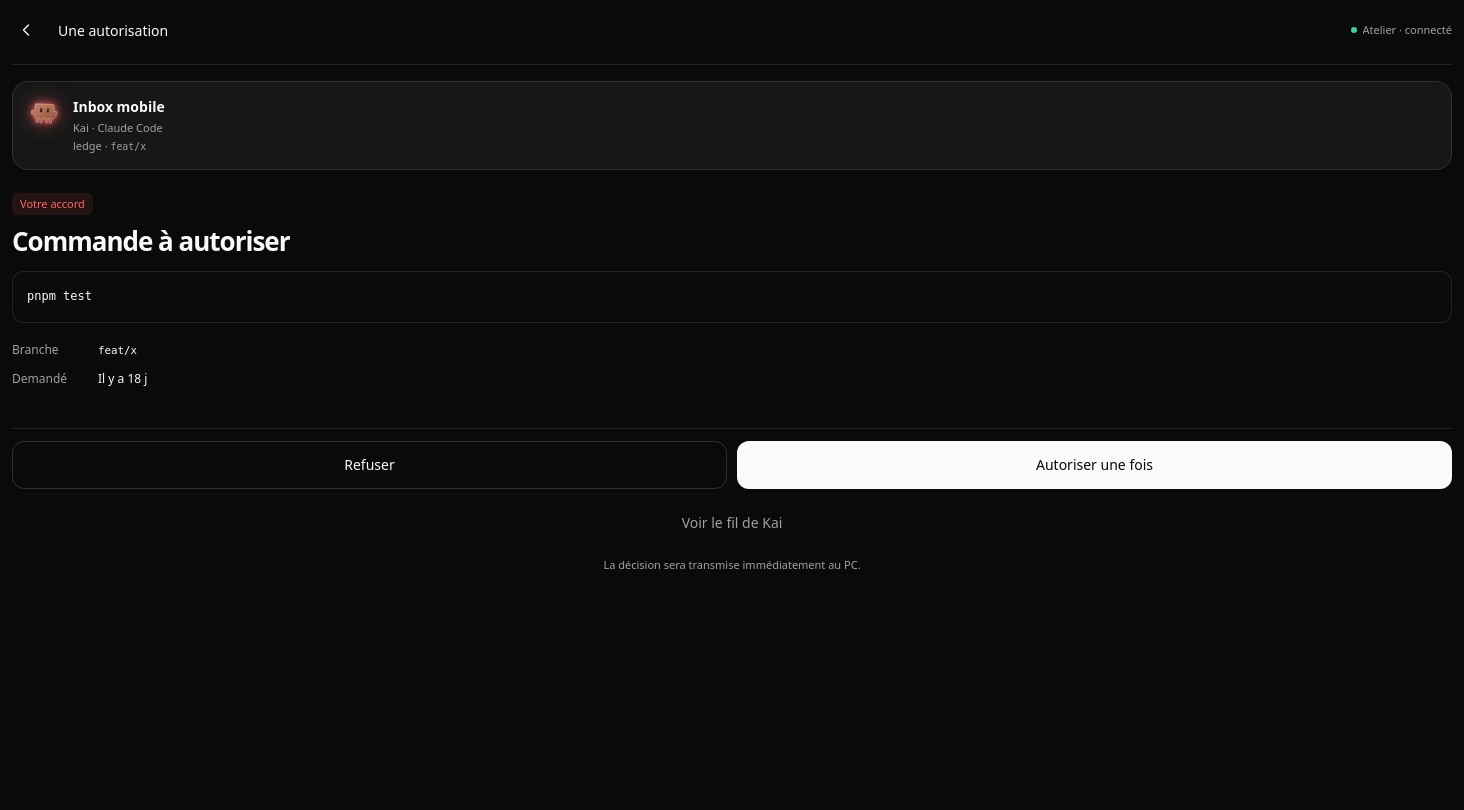
Test: the request detail › says a refusal was taken
The image size is (1464, 810).
Step 1. Click the button "Refuser" → [370, 465], box [12,441,727,489]
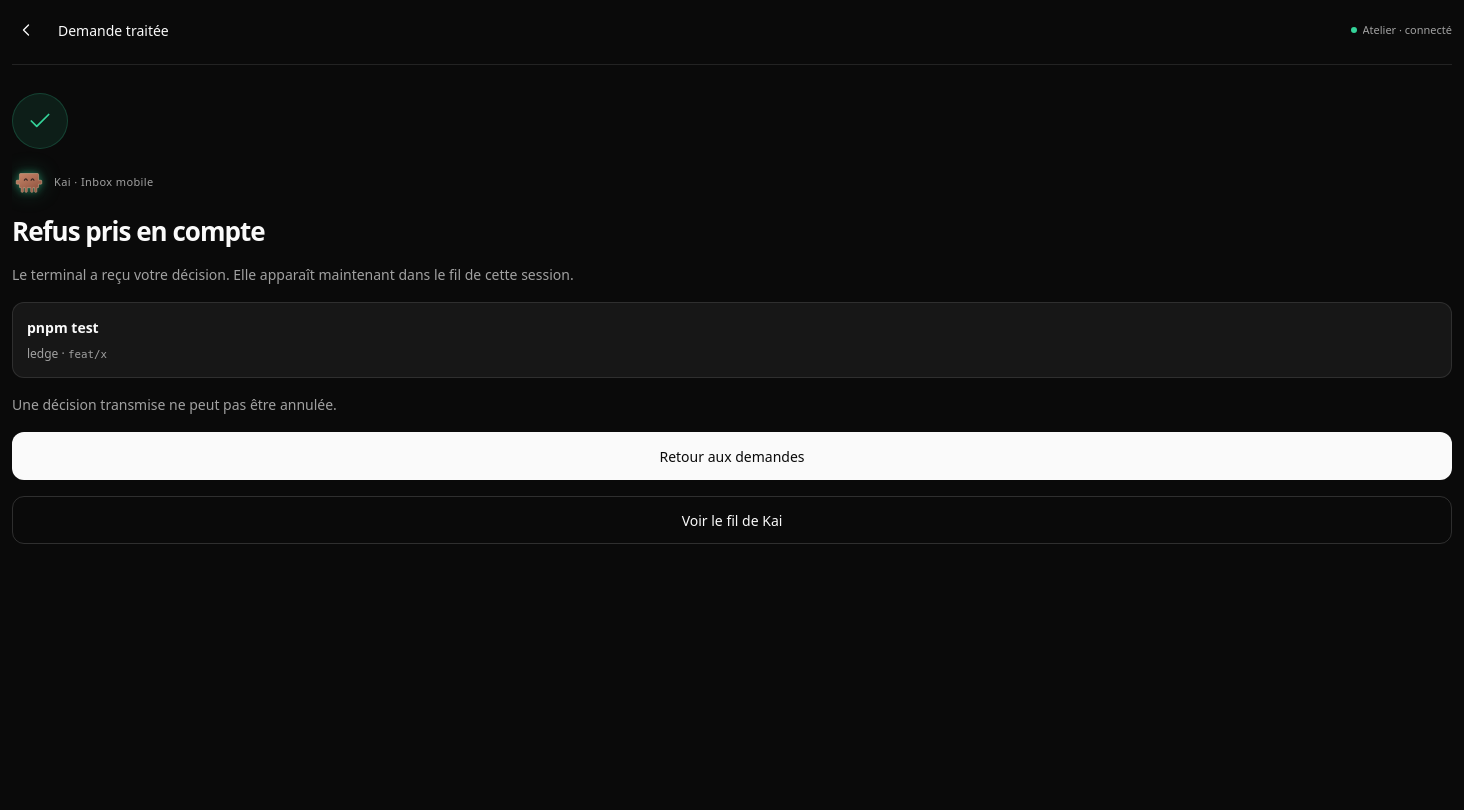
Now the heading "Refus pris en compte" is shown, box [12,215,264,248]
